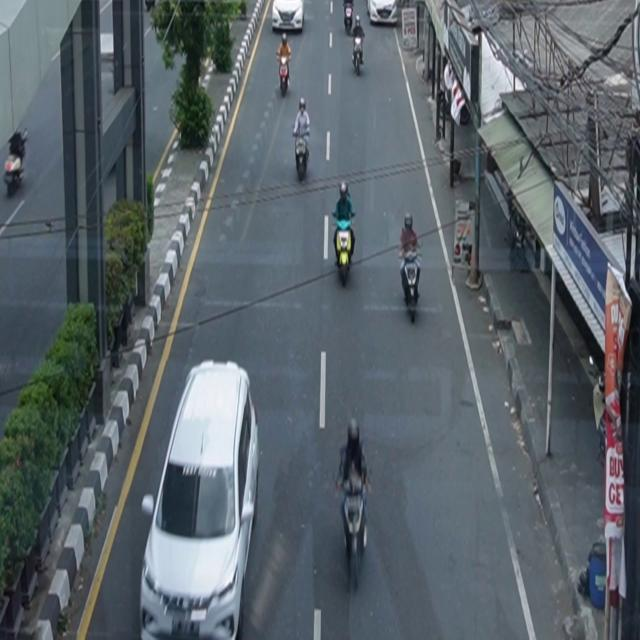car: (140, 360, 260, 640), (273, 1, 306, 34)
